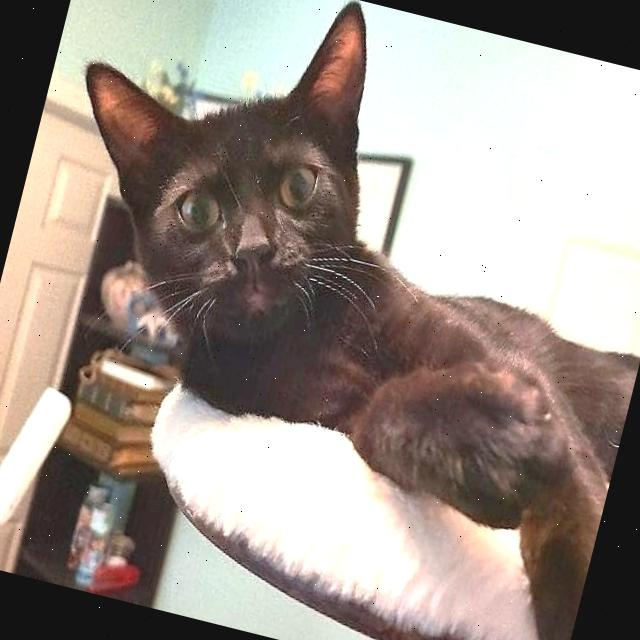bombay_cat: (13, 0, 435, 412)
